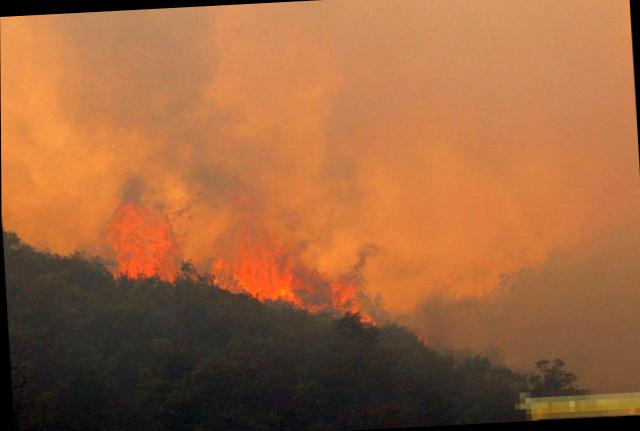fire: (204, 213, 373, 330), (103, 195, 195, 292)
